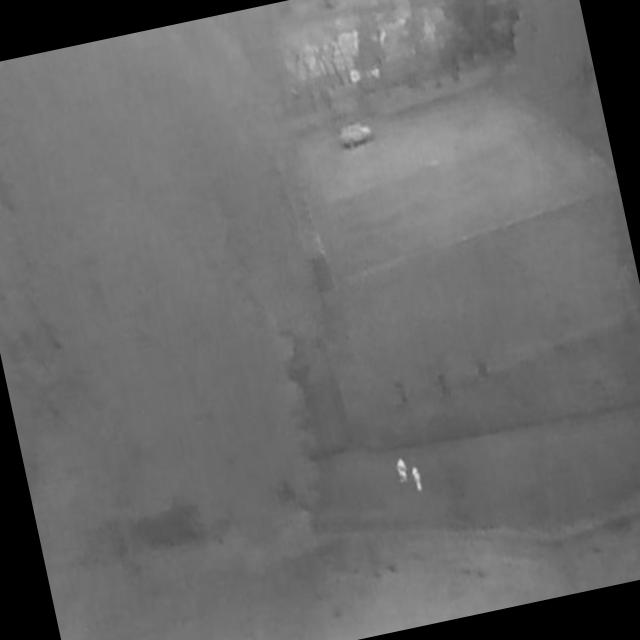person: (395, 457, 411, 485), (410, 466, 425, 495)
